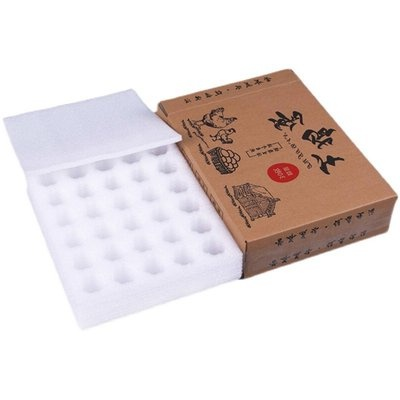5/可回收垃圾/泡沫: (23, 143, 243, 333), (3, 89, 183, 176)
